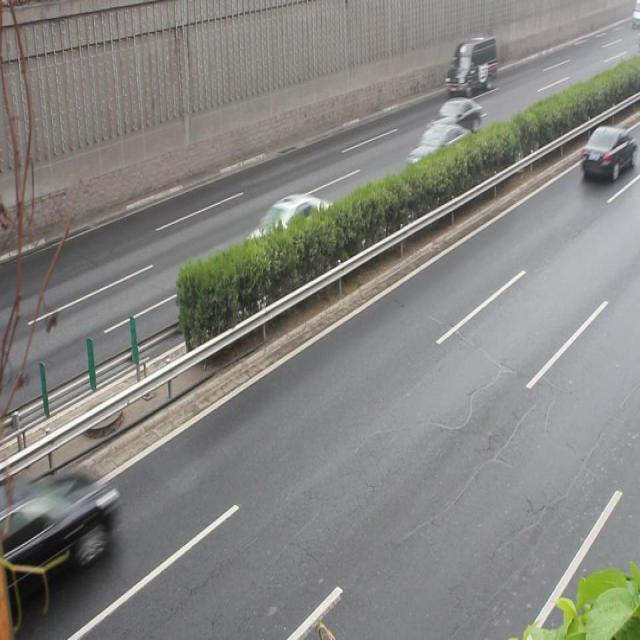car: (241, 192, 332, 276), (404, 123, 468, 177), (579, 122, 630, 177), (423, 95, 479, 141)
